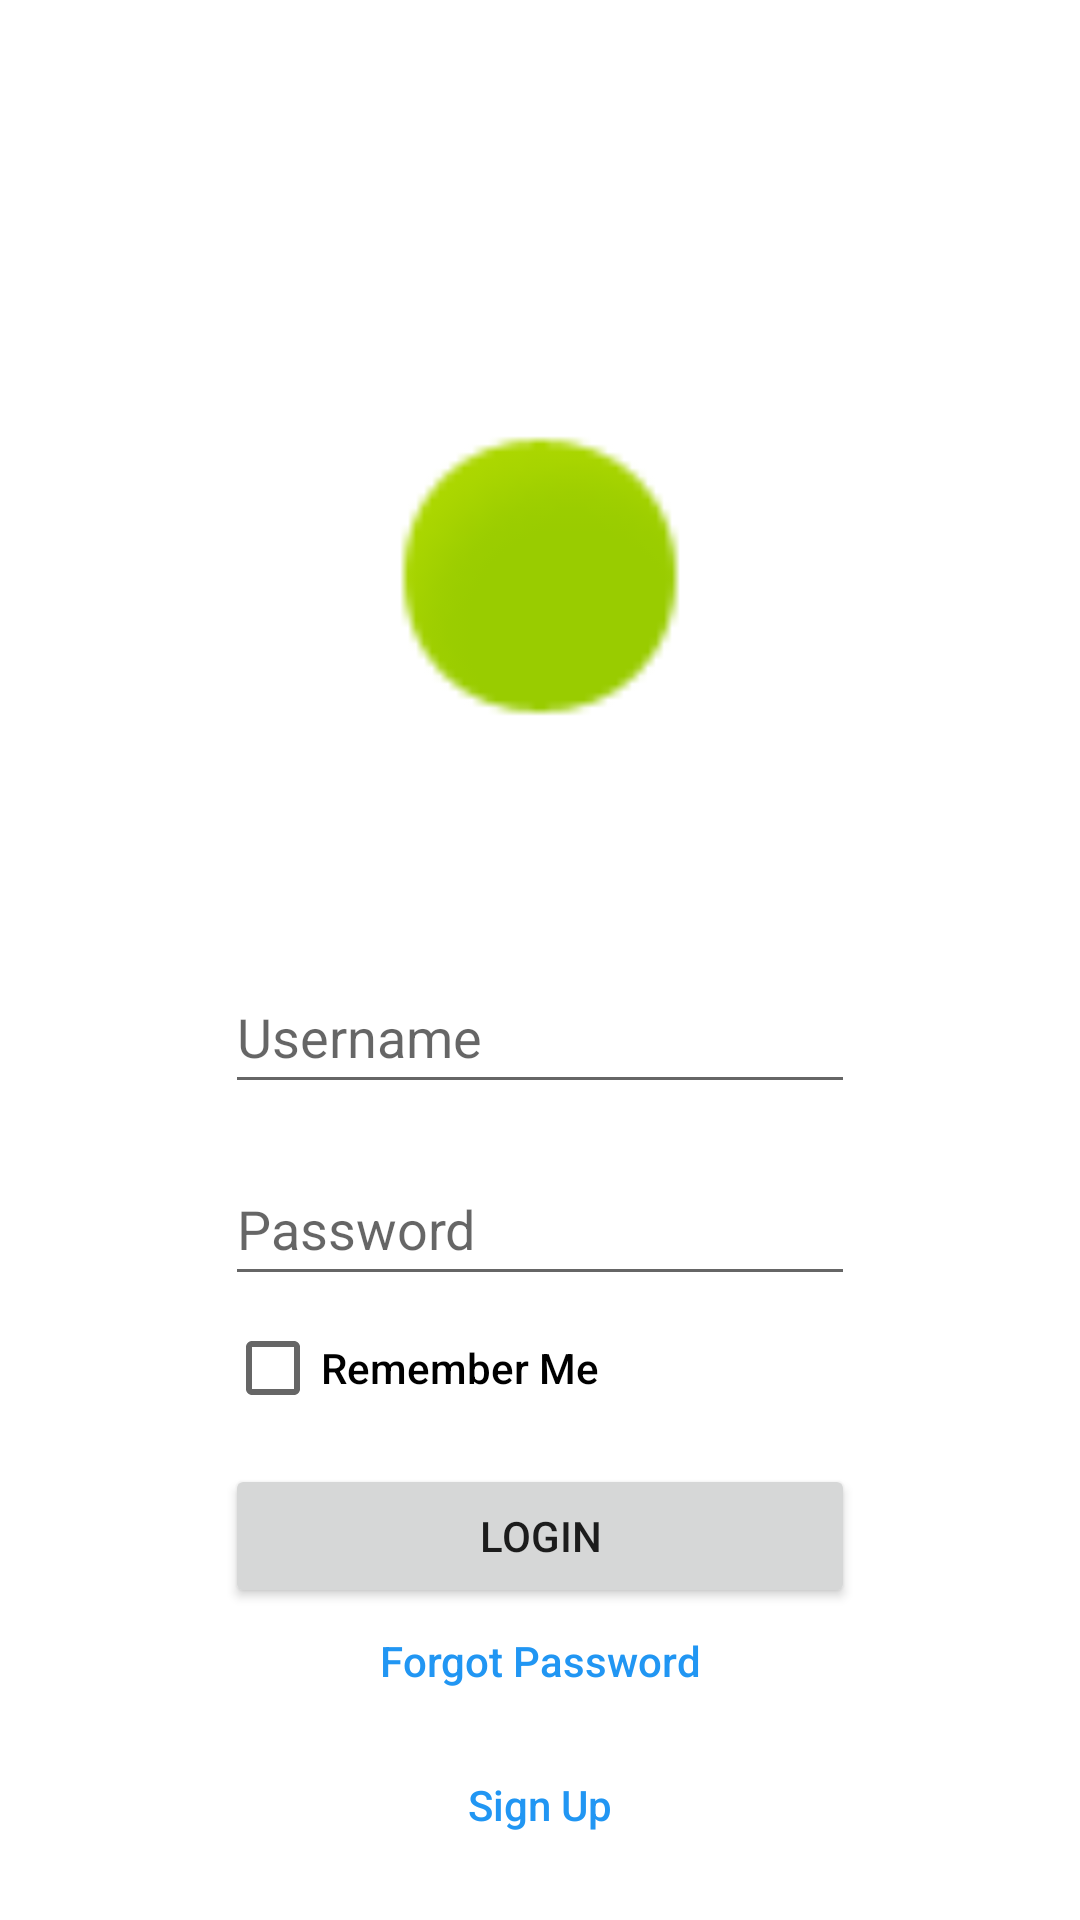

Icons on this 1080 × 1920 Android screen, each with its box as [x1,y1,x2,y2]:
presence online: [401,437,679,715]
